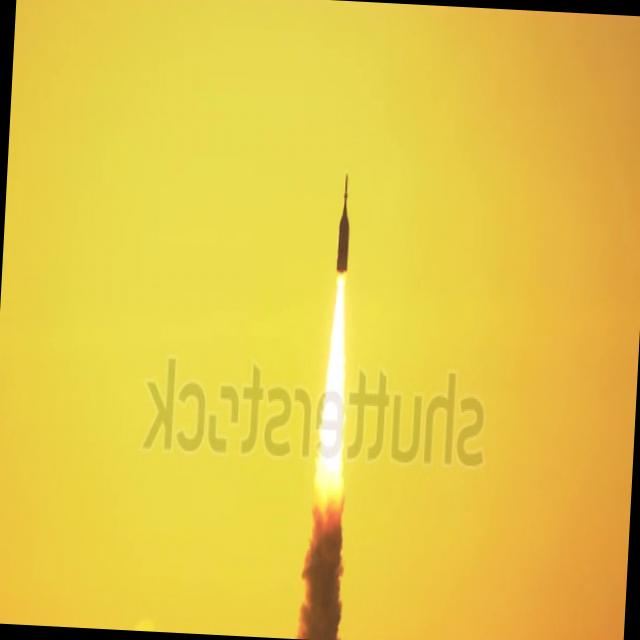rocket: (318, 177, 361, 524)
